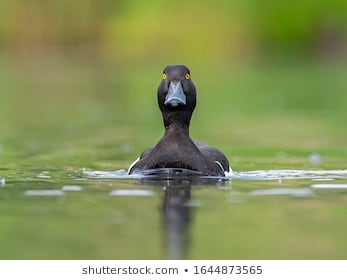duck: (121, 61, 240, 200)
